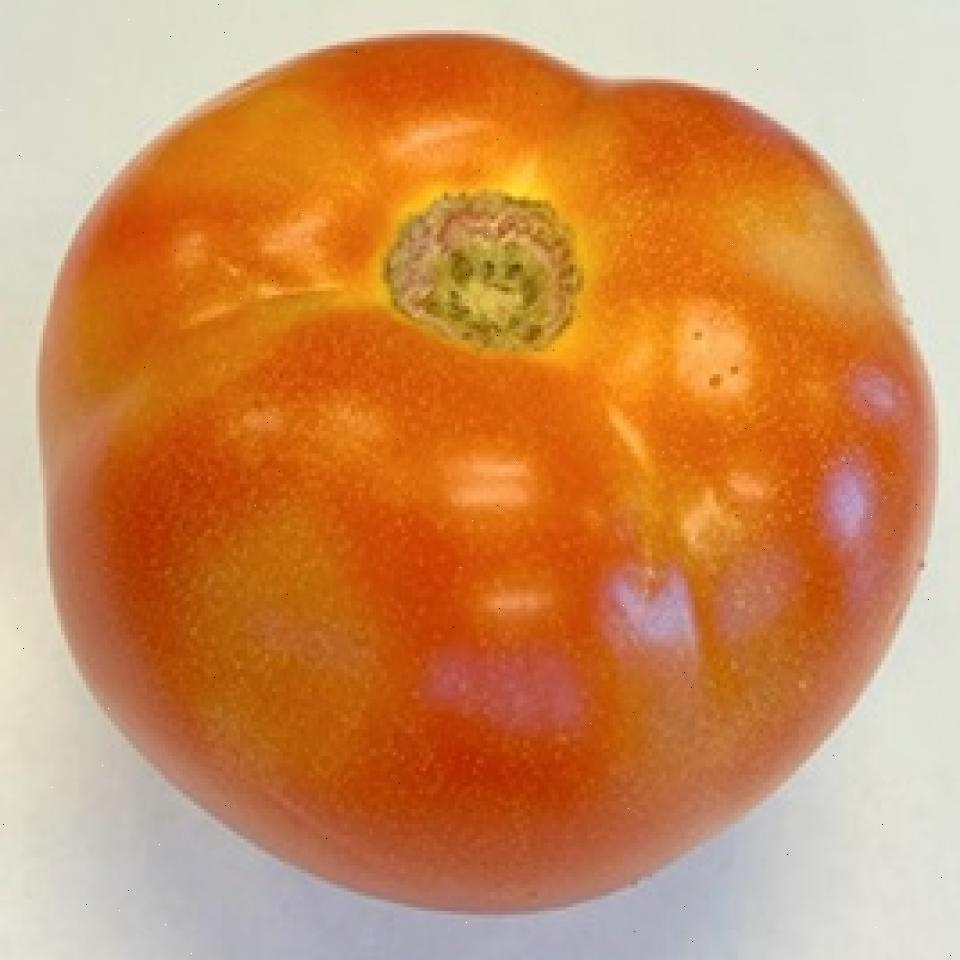Spotted wilt Virus: (36, 34, 935, 918)
